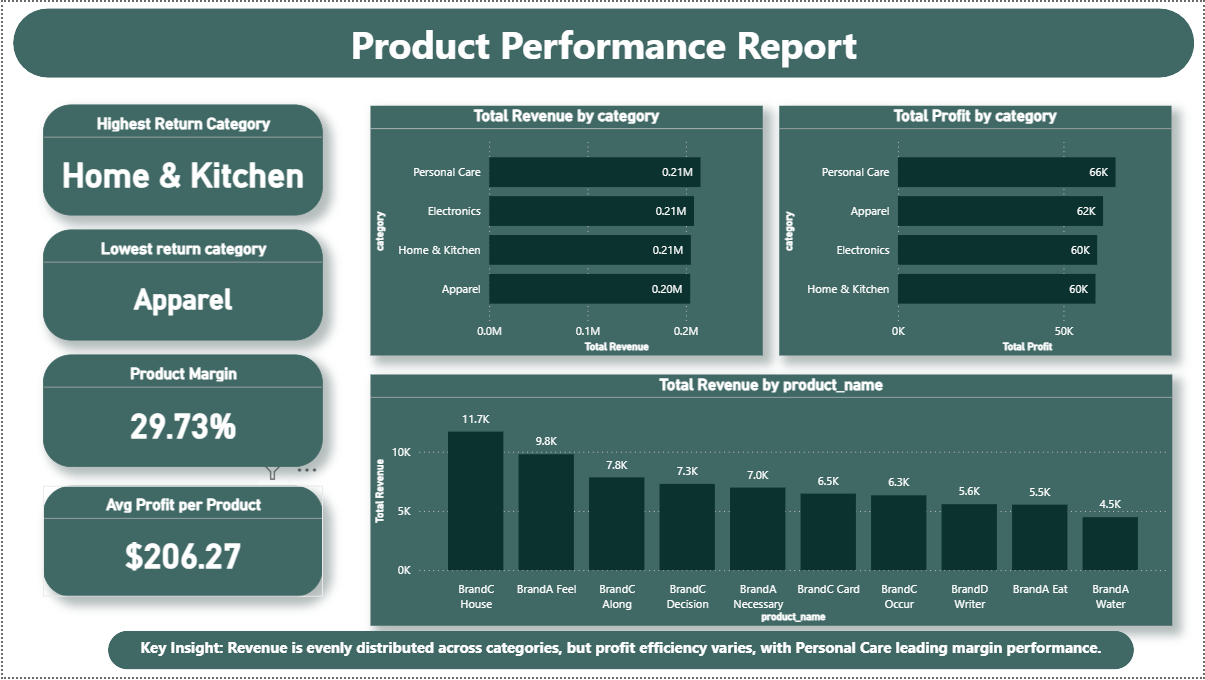

The page's visual inventory and layout, read from the dashboard file:
{"tool":"powerbi","page":{"name":"Product Performance Report","canvas":[1280,720],"ordinal":2},"visuals":[{"type":"barChart","fields":{"Y":["Cleaned Customers.Total Profit"],"Category":["Cleaned Products.category"]},"box":[828.3,110,418.3,266.7],"z":0},{"type":"columnChart","fields":{"Category":["Cleaned Products.product_name"],"Y":["Cleaned Customers.Total Revenue"]},"box":[391.7,396.7,855,268.3],"z":1000},{"type":"shape","box":[10.8,6.7,1260.1,74.1],"z":2000},{"type":"barChart","fields":{"Category":["Cleaned Products.category"],"Y":["Cleaned Customers.Total Revenue"]},"box":[391.7,110,418.3,266.7],"z":3000},{"type":"shape","box":[112.5,671.2,1094.4,41.2],"z":4000},{"type":"card","title":"Highest Return Category","fields":{"Values":["Cleaned Customers.Highest Return Category"]},"box":[105.3,109.3,210.7,118.7],"z":5000},{"type":"card","title":"Avg Profit per Product","fields":{"Values":["Cleaned Customers.Avg Profit per Product"]},"box":[105.3,516,210.7,118.7],"z":6000},{"type":"card","title":"Product Margin","fields":{"Values":["Cleaned Customers.Product Margin %"]},"box":[105.3,376,210.7,118.7],"z":7000},{"type":"card","title":"Lowest return category","fields":{"Values":["Cleaned Customers.Lowest Return Category"]},"box":[105.3,242.7,210.7,118.7],"z":8000}]}

Visuals, with their boxes in screenshot pixels (x1, y1, x2, y2), scaled from the page's 1280x720 canvas onto the 1205x680 screenshot:
barChart - Cleaned Customers.Total Profit x Cleaned Products.category: (left=780, top=104, right=1174, bottom=356)
columnChart - Cleaned Products.product_name x Cleaned Customers.Total Revenue: (left=369, top=375, right=1174, bottom=628)
shape: (left=10, top=6, right=1196, bottom=76)
barChart - Cleaned Products.category x Cleaned Customers.Total Revenue: (left=369, top=104, right=763, bottom=356)
shape: (left=106, top=634, right=1136, bottom=673)
"Highest Return Category" card: (left=99, top=103, right=297, bottom=215)
"Avg Profit per Product" card: (left=99, top=487, right=297, bottom=599)
"Product Margin" card: (left=99, top=355, right=297, bottom=467)
"Lowest return category" card: (left=99, top=229, right=297, bottom=341)
